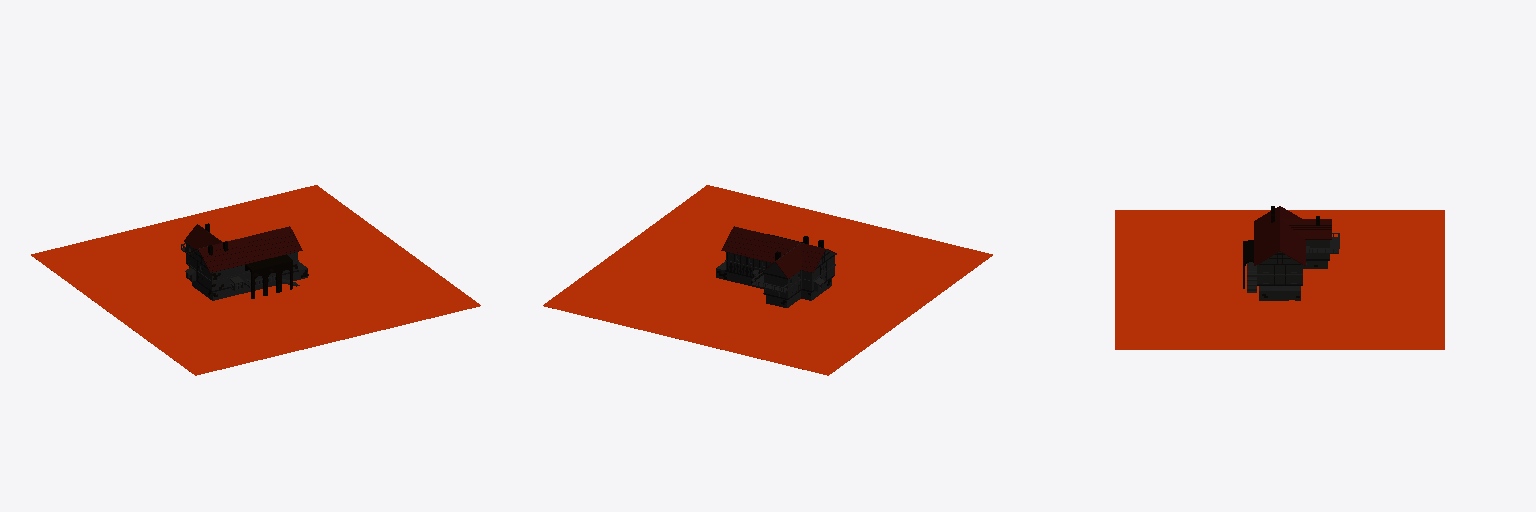
File: PTTest.obj
3 renders of one model, left to right at view 1: azimuth 30°, elevation 25°; view 2: azimuth 150°, elevation 25°; view 3: azimuth 270°, elevation 25°, orthographic.
Visible parts, largest first — view 1: Plane, Loof, Cube, Circle; view 2: Plane, Cube, Loof.001, Loof.003; view 3: Plane, Cube, Loof, Loof.001, Loof.002.
Boxes of the visible parts, <box> form: Plane: <box>31,185,480,375</box>; Loof: <box>198,227,302,272</box>; Cube: <box>181,225,307,300</box>; Circle: <box>245,255,292,298</box>; Plane: <box>543,185,992,375</box>; Cube: <box>716,227,836,307</box>; Loof.001: <box>721,227,825,272</box>; Loof.003: <box>775,244,801,278</box>; Plane: <box>1115,210,1444,349</box>; Cube: <box>1247,237,1338,300</box>; Loof: <box>1254,206,1279,265</box>; Loof.001: <box>1280,206,1305,265</box>; Loof.002: <box>1281,219,1331,239</box>.
Size of the model in its own units: 63.71 by 10.46 by 63.71.